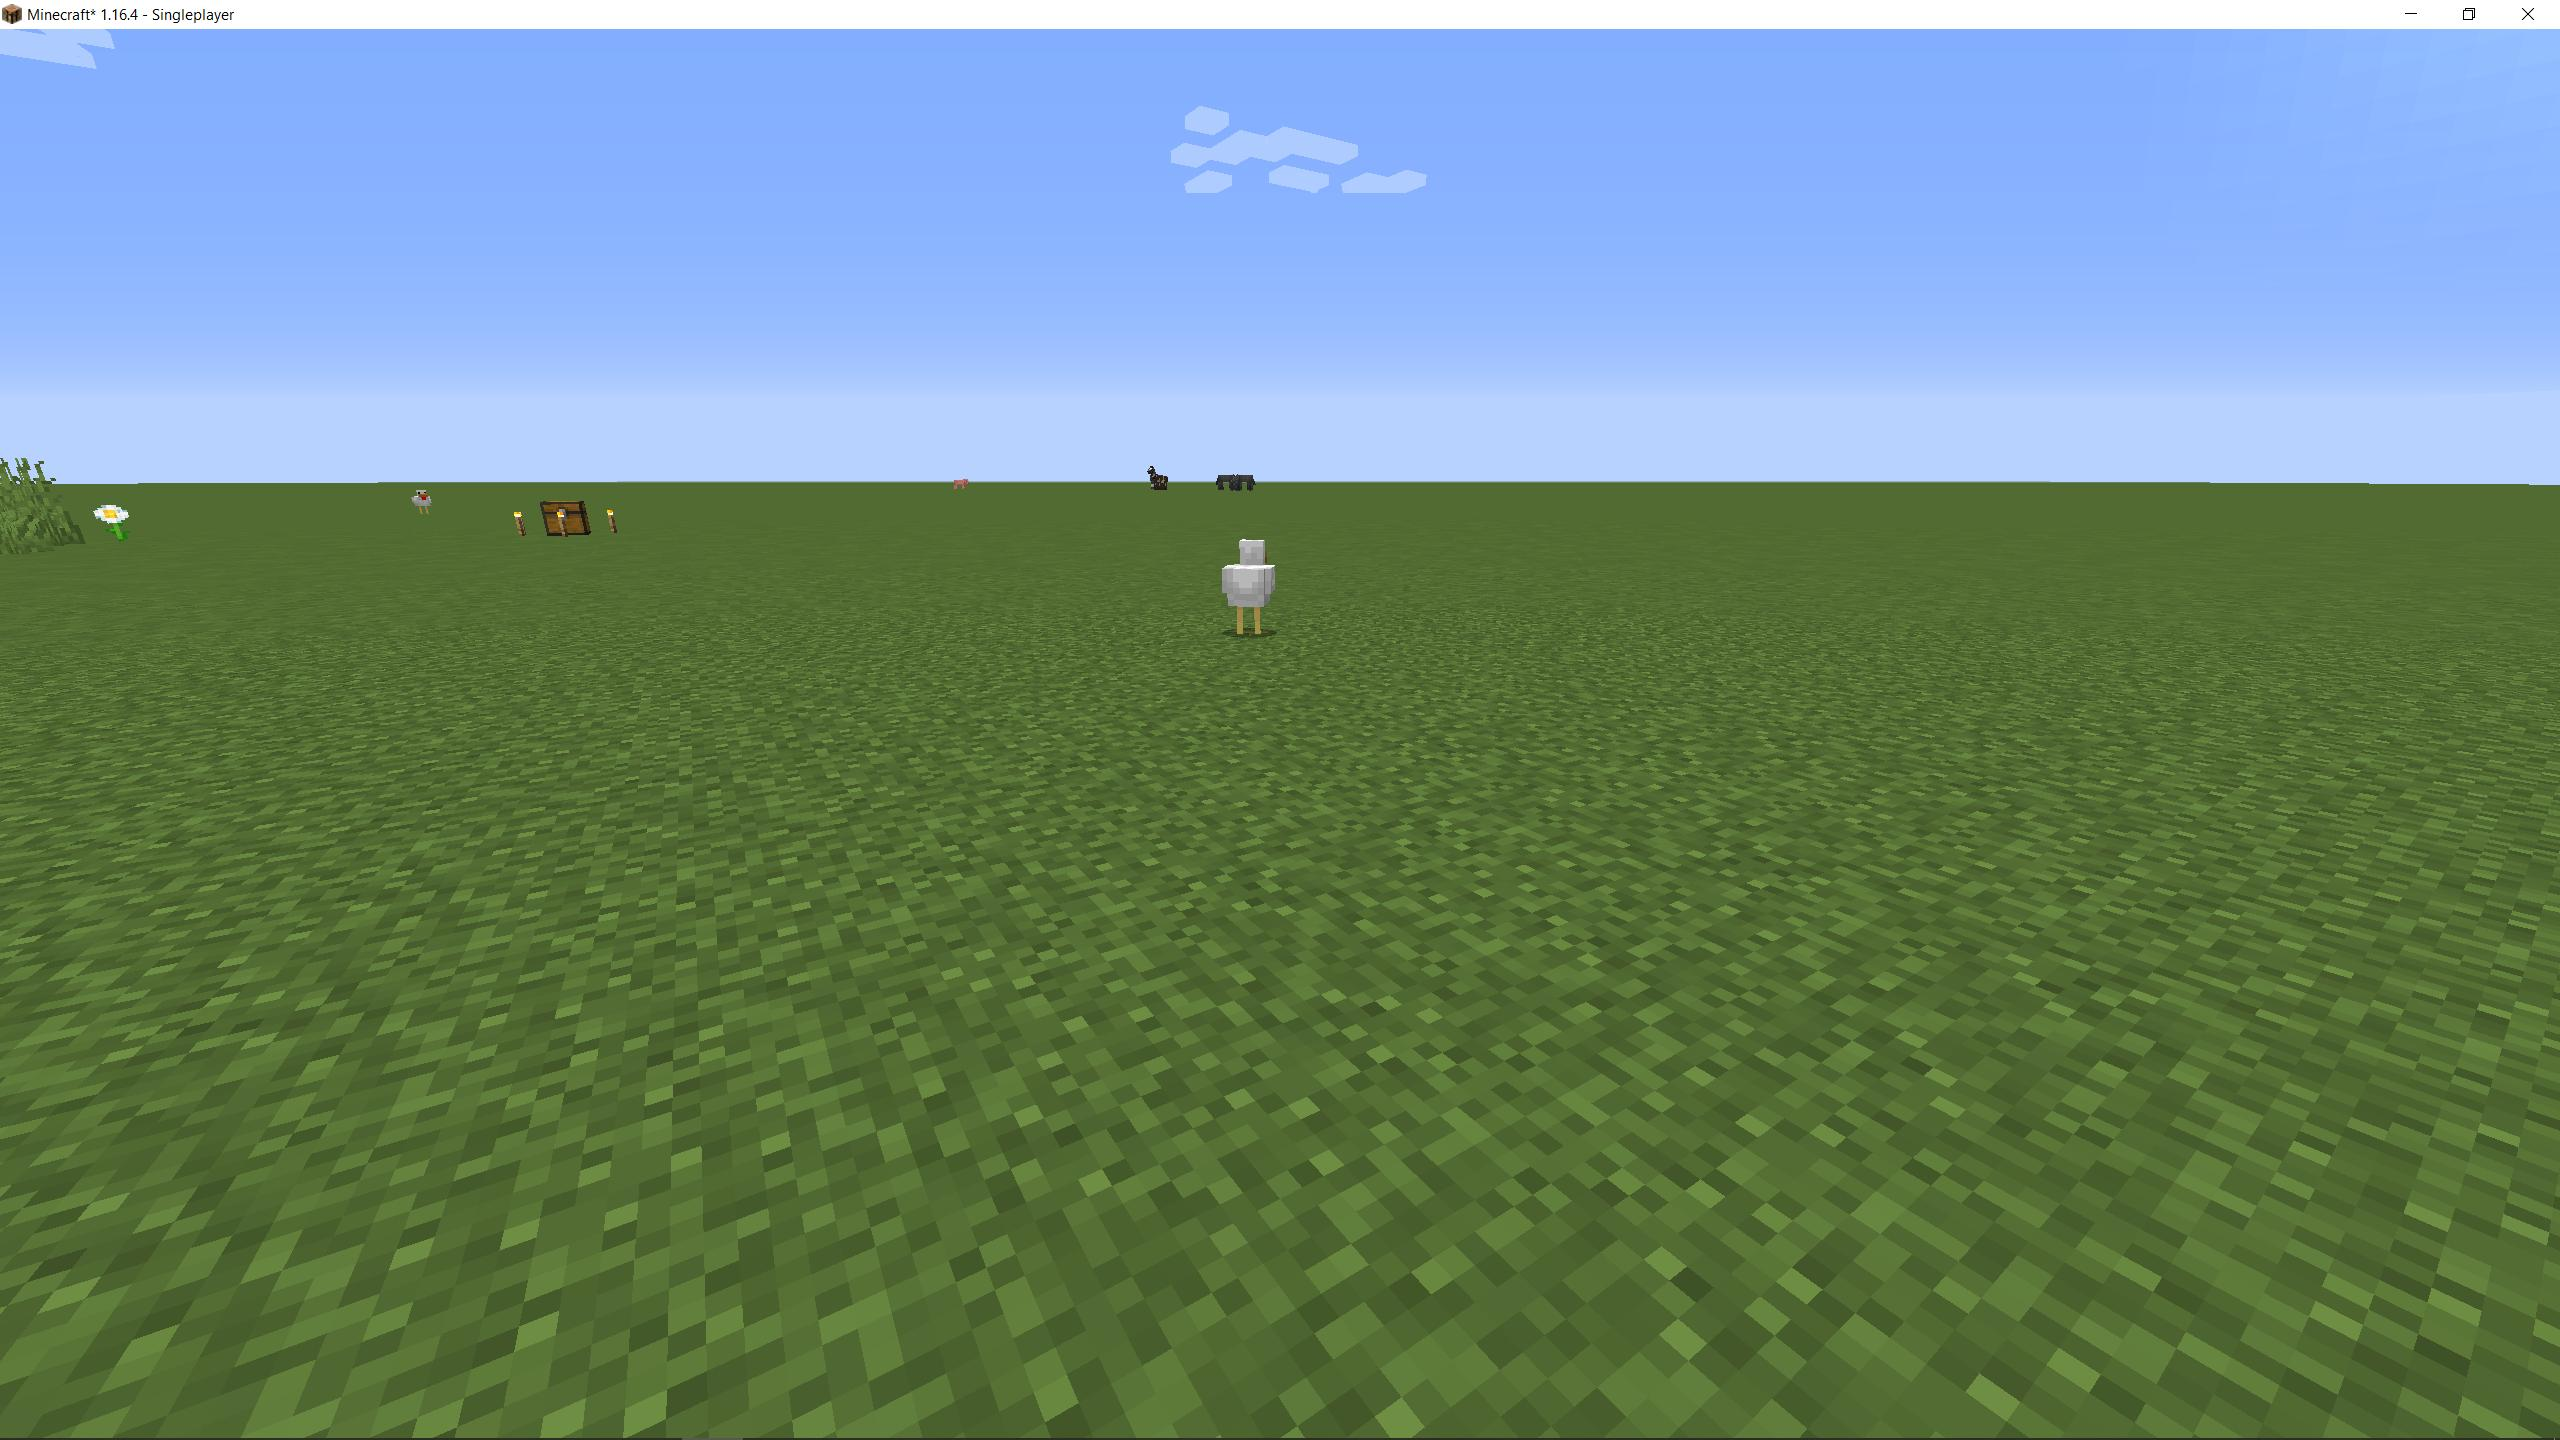chicken: (1204, 531, 1284, 636)
